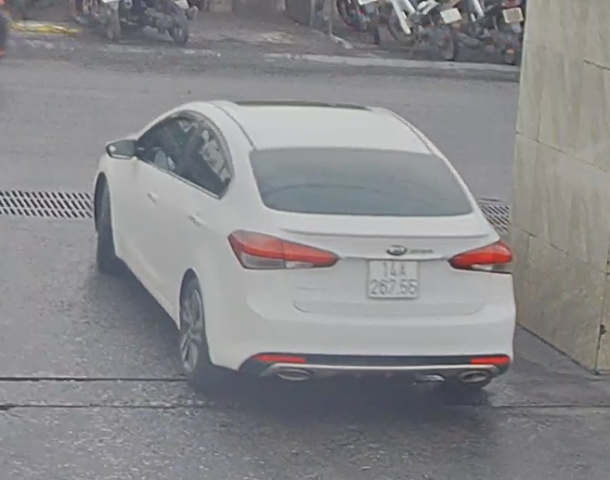vehicle plate: (366, 259, 419, 300)
